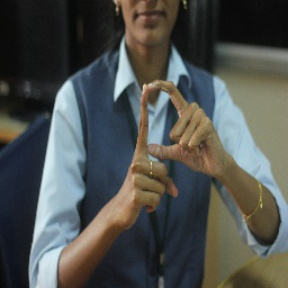D: (129, 77, 214, 176)
